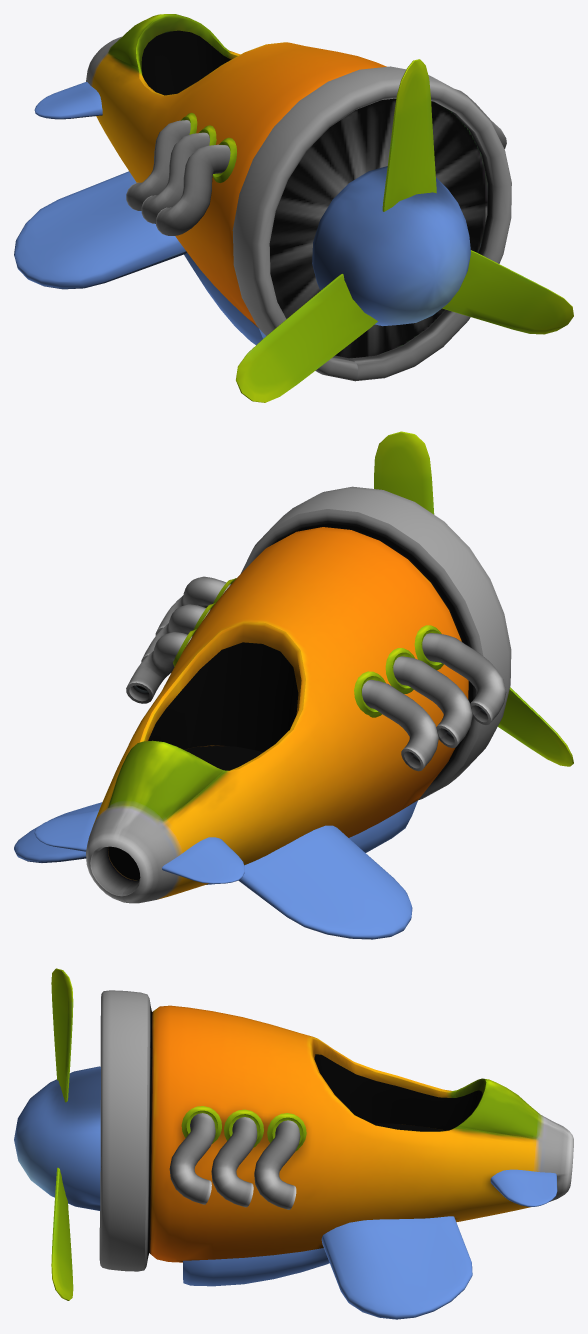
Rendered from seymourplane.dae.
3 views of the same model, one above another, from view 1: azimuth 30°, elevation 25°; view 2: azimuth 150°, elevation 25°; view 3: azimuth 270°, elevation 25° (orthographic). The views are drawn at different scales.
Parts seen in each view (by area): view 1: plane, prop; view 2: plane, prop; view 3: plane, prop.
Part boxes in pixels (box(x1,y1,x2,y2)): plane: box(14, 14, 511, 381); prop: box(236, 59, 573, 402); plane: box(14, 486, 511, 939); prop: box(374, 431, 573, 766); plane: box(14, 990, 573, 1319); prop: box(51, 968, 73, 1300).
Size of the model in its own units: 7.59 by 6.82 by 11.16.
Materials: 3 (3 with a texture image).
